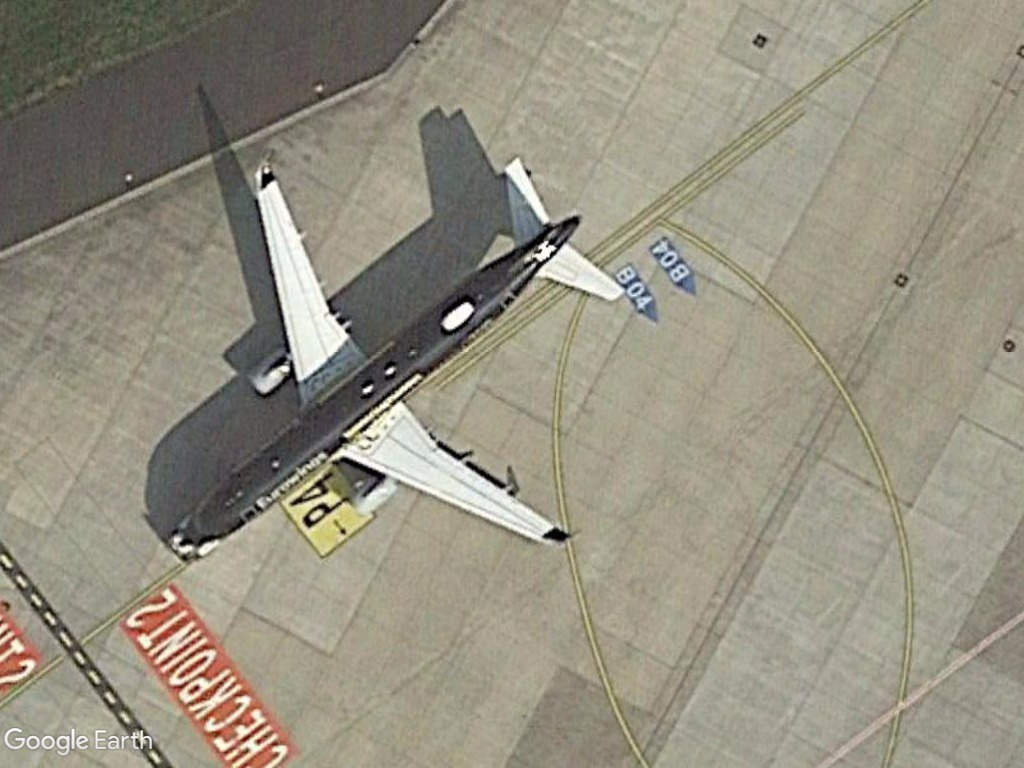airliner: (156, 139, 630, 598)
